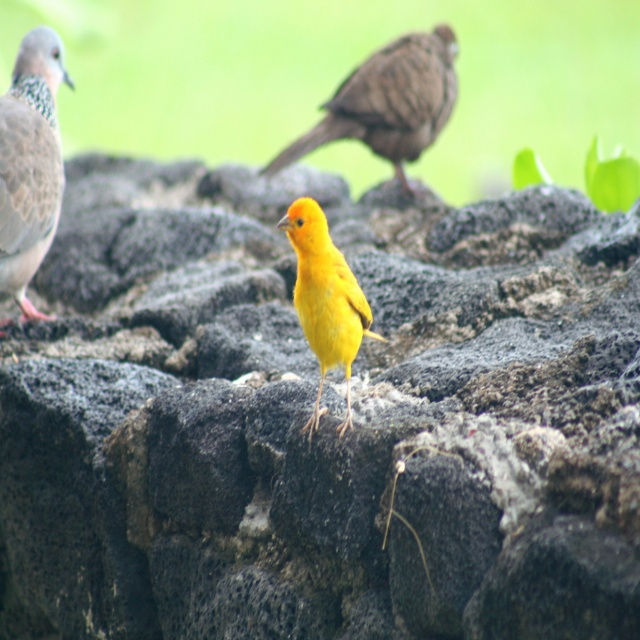Canary: (255, 15, 461, 201), (255, 15, 459, 198), (276, 192, 391, 442), (0, 23, 76, 340), (0, 25, 75, 334)
